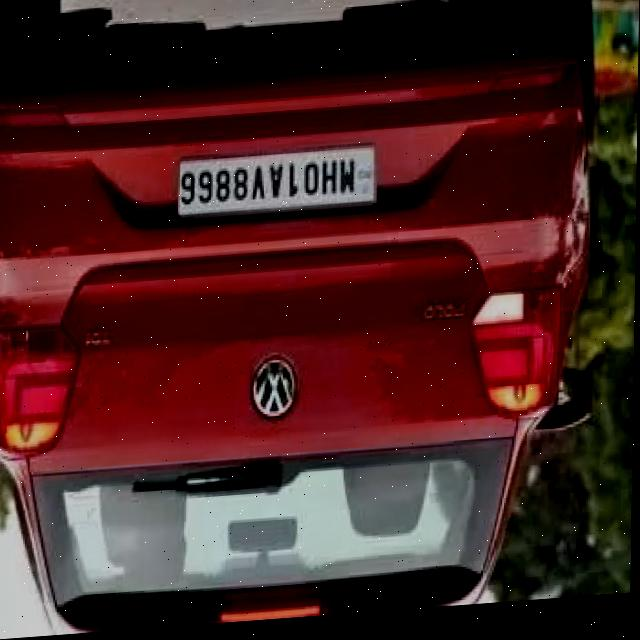plate: (177, 150, 375, 221)
